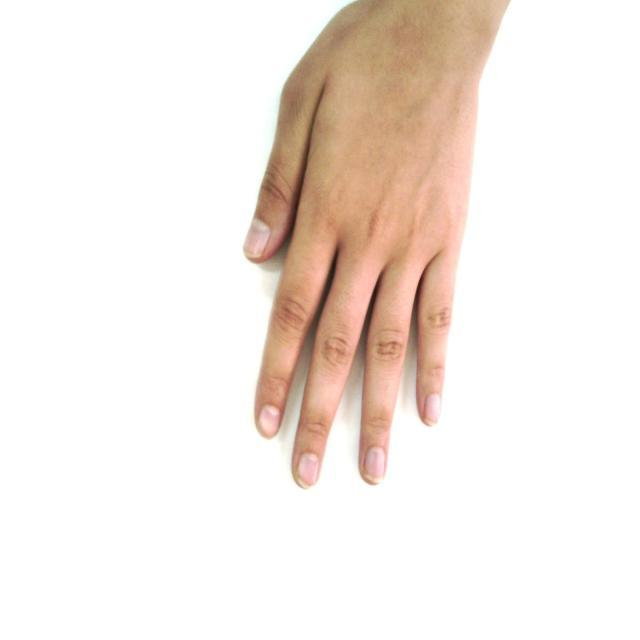Fingernail: (245, 220, 269, 256), (298, 453, 318, 486), (365, 447, 384, 480), (261, 406, 280, 437), (426, 394, 439, 424)
